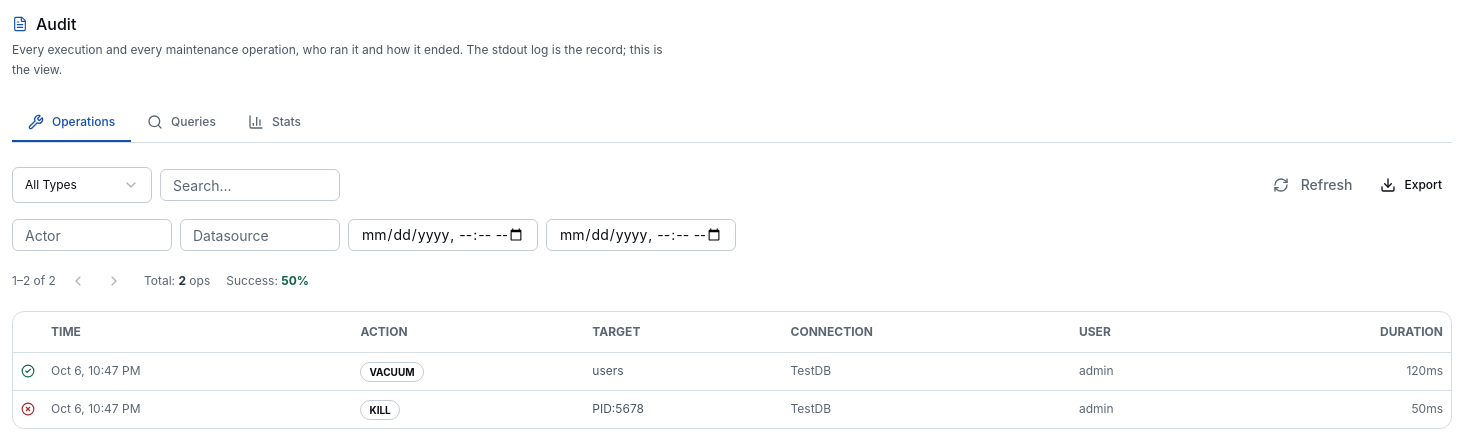
Test: AuditTab › queries tab says when statements are not recorded
Click the tab "Queries" at (182, 122), box [131,103,232,142]
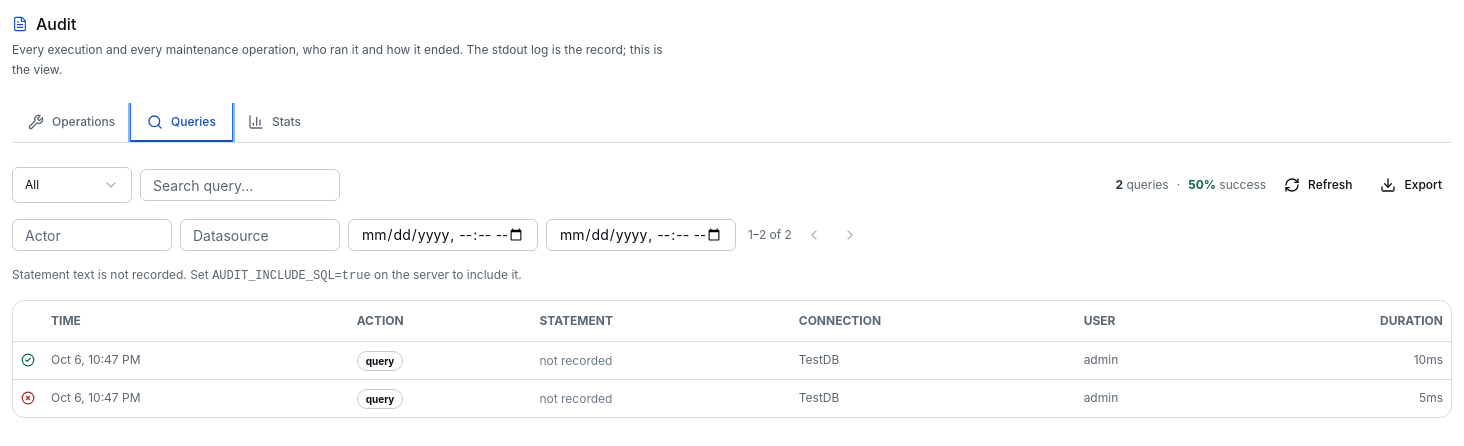
Result: the text "Statement text is not recorded" is shown at [12,267,212,282]
Result: the text "not recorded" is shown 2 times at [539,353,612,368]; [539,391,612,406]
